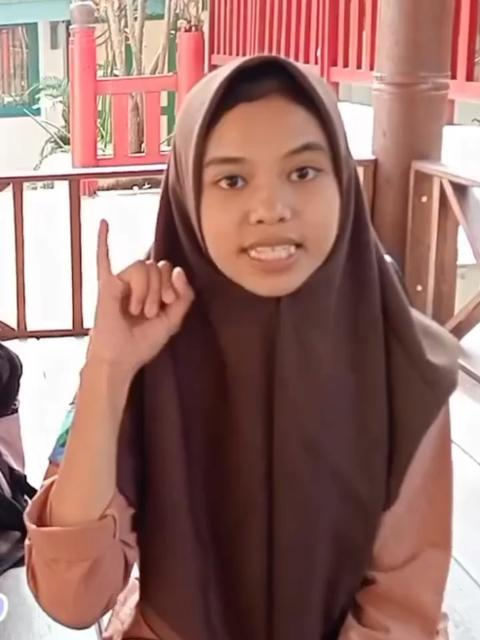I: (96, 216, 193, 368)
